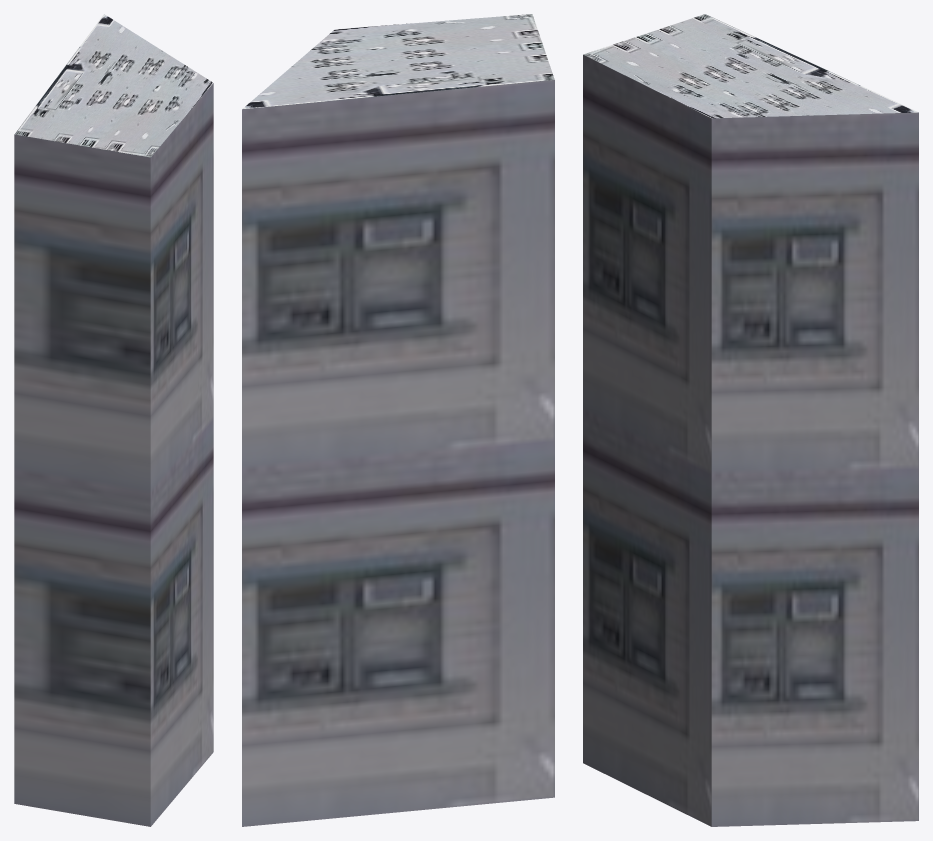
Rendered from ResTex__2817.fbx.
3 renders of one model, left to right at view 1: azimuth 30°, elevation 25°; view 2: azimuth 150°, elevation 25°; view 3: azimuth 270°, elevation 25°, orthographic. The views are drawn at different scales.
Visible parts, largest first — view 1: CityEngineMaterial_1_m, CityEngineMaterial_4_m; view 2: CityEngineMaterial_1_m, CityEngineMaterial_4_m; view 3: CityEngineMaterial_1_m, CityEngineMaterial_4_m.
Part boxes in pixels (x1=…): CityEngineMaterial_1_m: x1=14, y1=83, x2=213, y2=826; CityEngineMaterial_4_m: x1=15, y1=14, x2=212, y2=157; CityEngineMaterial_1_m: x1=242, y1=80, x2=554, y2=826; CityEngineMaterial_4_m: x1=242, y1=14, x2=554, y2=109; CityEngineMaterial_1_m: x1=583, y1=54, x2=918, y2=826; CityEngineMaterial_4_m: x1=583, y1=14, x2=918, y2=118.
Bounding box in the file's own units: 1.9 × 6 × 2.58.
2 materials, 2 textured.
